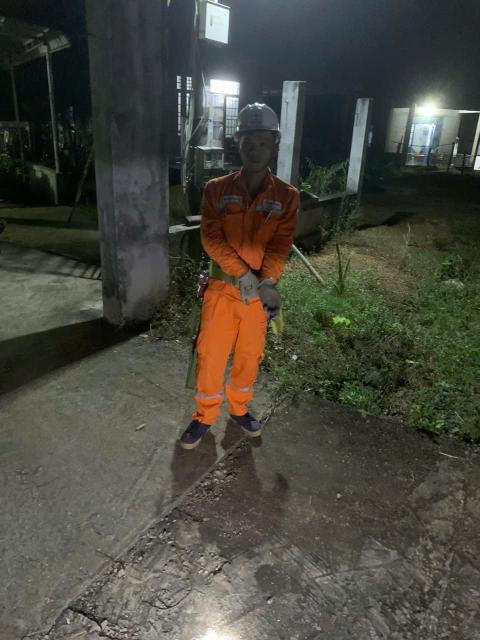gloves: (228, 268, 262, 302), (258, 280, 289, 317)
harness: (200, 252, 274, 296)
helmet: (228, 93, 289, 142)
shoes: (159, 403, 218, 461), (230, 395, 268, 440)
